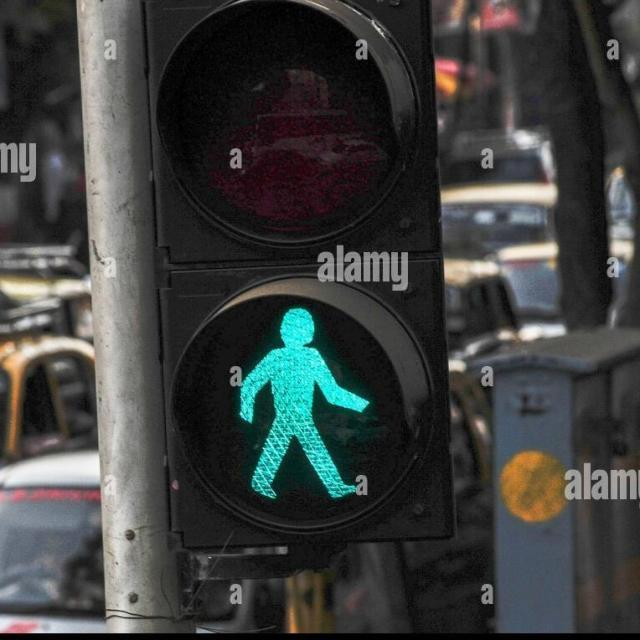green_light: (243, 301, 356, 512)
